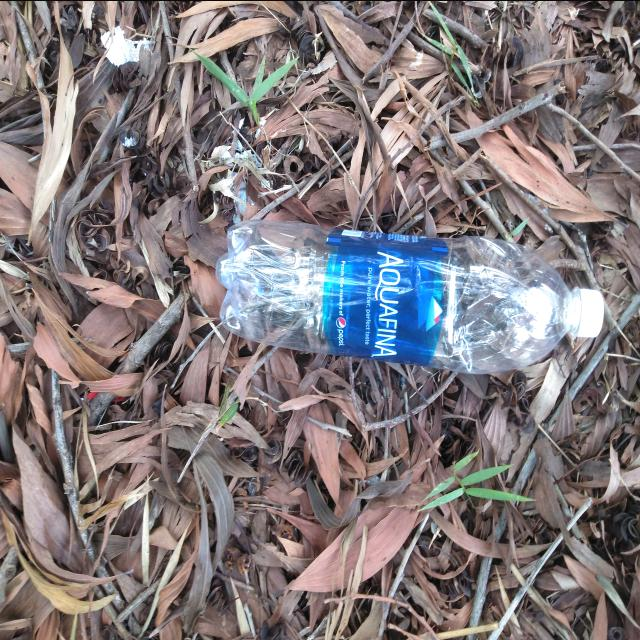Clear plastic bottle: (215, 219, 604, 373)
Plastic bottle cap: (577, 288, 604, 336)
Unlabeled litter: (227, 139, 262, 222), (100, 24, 155, 66)
